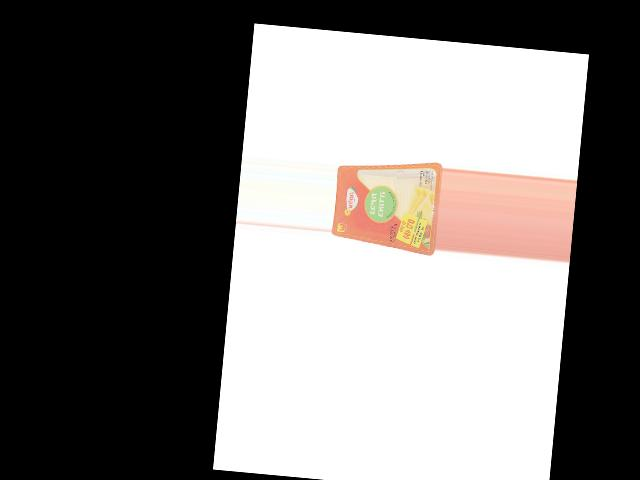cheese: (331, 153, 443, 256)
